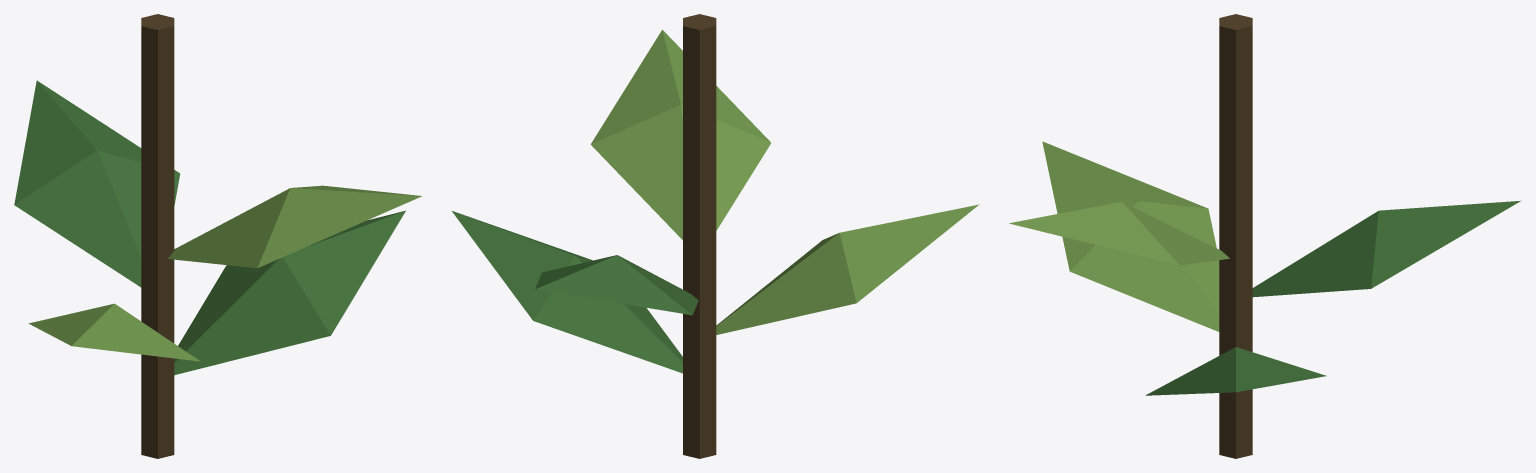
The model's file is Healroot2.gltf.
The picture shows the model from 3 angles, left to right: view 1: azimuth 30°, elevation 25°; view 2: azimuth 150°, elevation 25°; view 3: azimuth 270°, elevation 25°; orthographic projection.
Visible parts, largest first — view 1: Healroot2; view 2: Healroot2; view 3: Healroot2.
Boxes of the visible parts, <box> form: Healroot2: <box>14,14,422,458</box>; Healroot2: <box>452,14,979,458</box>; Healroot2: <box>1009,14,1521,458</box>.
Size of the model in its own units: 0.2085 by 0.198 by 0.2148.
